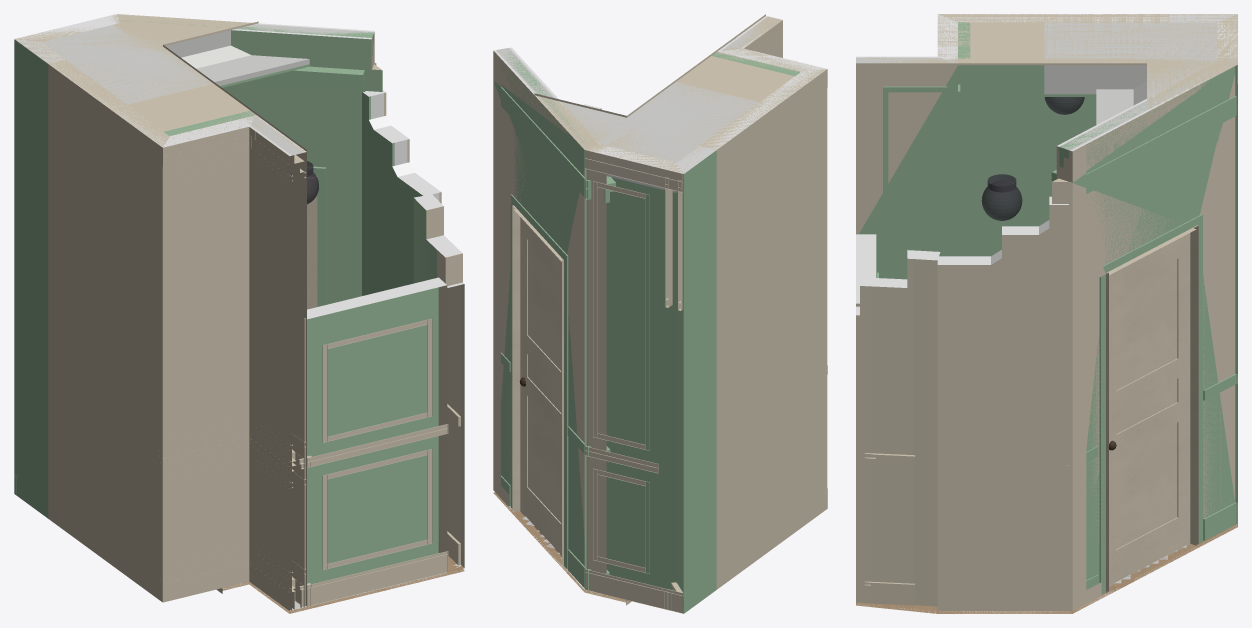
File: powder-room-dfb0c6915af0.glb
3 views of the same model, side by side, from view 1: azimuth 30°, elevation 25°; view 2: azimuth 150°, elevation 25°; view 3: azimuth 270°, elevation 25° (orthographic). The views are drawn at different scales.
Visible parts, largest first — view 1: powder-room-d33eebe572d154f2, powder-room-1a8091885ac212af, powder-room-ab5cb5e7d303dd66, powder-room-85f0fd939e0fcc78, powder-room-a5eabba2ad6474eb, powder-room-9b21989b25895c4a, powder-room-2575515a05775d9e, powder-room-5b07a8f5f7929ff6, powder-room-c18614f52c08eb0a, powder-room-3d7935a3f1355396, powder-room-e5e2173c4bbfdbc5, powder-room-c56c1017208455ae (+8 smaller); view 2: powder-room-d33eebe572d154f2, powder-room-a5eabba2ad6474eb, powder-room-b2b5f93b4255576d, powder-room-9b21989b25895c4a, powder-room-539cd4ce99668665, powder-room-2575515a05775d9e, powder-room-5b07a8f5f7929ff6, powder-room-86d6fc7292b21ae1, powder-room-ae2ab6de1156d266, powder-room-48dc2409da547ff7, powder-room-f5fbb4dd3b92b4c5, powder-room-60b0468410271b8c (+11 smaller); view 3: powder-room-d65b0a574c2ac13c, powder-room-a5eabba2ad6474eb, powder-room-c18614f52c08eb0a, powder-room-539cd4ce99668665, powder-room-85f0fd939e0fcc78, powder-room-d33eebe572d154f2, powder-room-2575515a05775d9e, powder-room-5b07a8f5f7929ff6, powder-room-48dc2409da547ff7, powder-room-86d6fc7292b21ae1, powder-room-48dd1d74e06d76de, powder-room-e08d4ba707d0aa50 (+16 smaller).
Part boxes in pixels (x1=…): powder-room-d33eebe572d154f2: x1=48, y1=60, x2=167, y2=601; powder-room-1a8091885ac212af: x1=163, y1=115, x2=255, y2=602; powder-room-ab5cb5e7d303dd66: x1=305, y1=277, x2=447, y2=606; powder-room-85f0fd939e0fcc78: x1=243, y1=115, x2=306, y2=610; powder-room-a5eabba2ad6474eb: x1=101, y1=14, x2=382, y2=304; powder-room-9b21989b25895c4a: x1=14, y1=39, x2=64, y2=518; powder-room-2575515a05775d9e: x1=15, y1=14, x2=306, y2=152; powder-room-5b07a8f5f7929ff6: x1=42, y1=24, x2=309, y2=104; powder-room-c18614f52c08eb0a: x1=413, y1=194, x2=464, y2=567; powder-room-3d7935a3f1355396: x1=362, y1=92, x2=425, y2=295; powder-room-e5e2173c4bbfdbc5: x1=307, y1=551, x2=448, y2=606; powder-room-c56c1017208455ae: x1=322, y1=318, x2=432, y2=442; powder-room-d33eebe572d154f2: x1=703, y1=69, x2=827, y2=589; powder-room-a5eabba2ad6474eb: x1=493, y1=47, x2=606, y2=589; powder-room-b2b5f93b4255576d: x1=584, y1=145, x2=683, y2=592; powder-room-9b21989b25895c4a: x1=676, y1=146, x2=716, y2=613; powder-room-539cd4ce99668665: x1=520, y1=217, x2=561, y2=556; powder-room-2575515a05775d9e: x1=534, y1=14, x2=826, y2=173; powder-room-5b07a8f5f7929ff6: x1=562, y1=82, x2=758, y2=162; powder-room-86d6fc7292b21ae1: x1=512, y1=205, x2=563, y2=565; powder-room-ae2ab6de1156d266: x1=593, y1=181, x2=649, y2=450; powder-room-48dc2409da547ff7: x1=510, y1=194, x2=568, y2=568; powder-room-f5fbb4dd3b92b4c5: x1=585, y1=569, x2=682, y2=613; powder-room-60b0468410271b8c: x1=585, y1=150, x2=682, y2=192; powder-room-d65b0a574c2ac13c: x1=937, y1=204, x2=1068, y2=610; powder-room-a5eabba2ad6474eb: x1=1052, y1=54, x2=1235, y2=610; powder-room-c18614f52c08eb0a: x1=856, y1=250, x2=940, y2=606; powder-room-539cd4ce99668665: x1=1109, y1=233, x2=1190, y2=586; powder-room-85f0fd939e0fcc78: x1=856, y1=56, x2=957, y2=279; powder-room-d33eebe572d154f2: x1=938, y1=14, x2=1169, y2=256; powder-room-2575515a05775d9e: x1=856, y1=14, x2=1237, y2=110; powder-room-5b07a8f5f7929ff6: x1=1044, y1=22, x2=1217, y2=124; powder-room-48dc2409da547ff7: x1=1099, y1=214, x2=1202, y2=594; powder-room-86d6fc7292b21ae1: x1=1106, y1=225, x2=1198, y2=592; powder-room-48dd1d74e06d76de: x1=1086, y1=96, x2=1236, y2=193; powder-room-e08d4ba707d0aa50: x1=883, y1=86, x2=947, y2=278.
Bounding box in the file's own units: 1.92 × 3.05 × 2.26.
20 materials, 5 textured.
